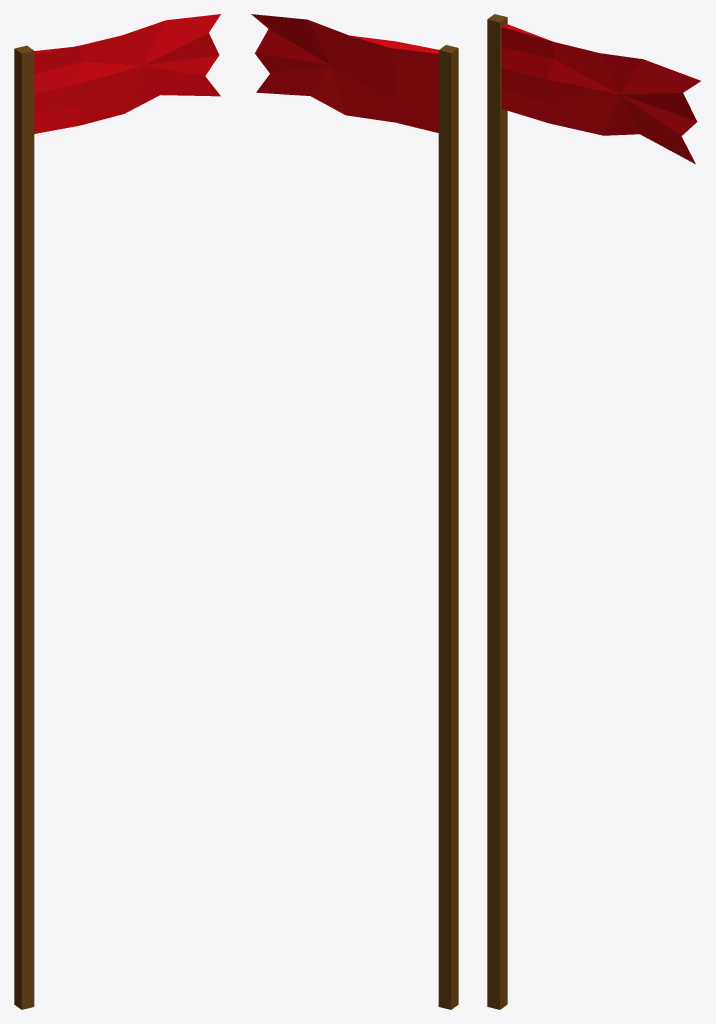
File: SnolfFlag.fbx
3 renders of one model, left to right at view 1: azimuth 30°, elevation 25°; view 2: azimuth 150°, elevation 25°; view 3: azimuth 330°, elevation 25°, orthographic. The views are drawn at different scales.
Visible parts, largest first — view 1: Cube; view 2: Cube; view 3: Cube.
Boxes of the visible parts, box(x1,y1,x2,y2) form: Cube: box(14, 14, 220, 1009); Cube: box(251, 14, 458, 1009); Cube: box(487, 14, 700, 1009).
Bounding box in the file's own units: 137 × 612 × 8.4.
